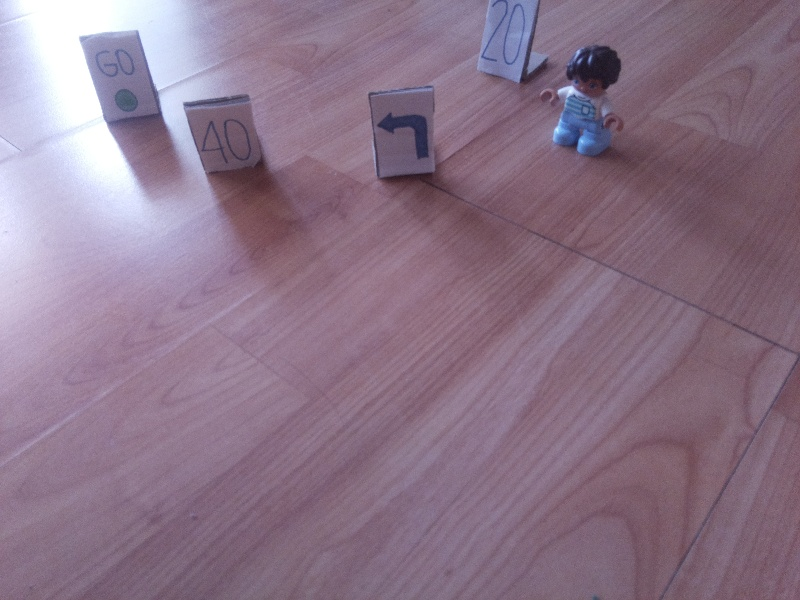20: (480, 2, 528, 72)
40: (201, 114, 256, 166)
go: (93, 45, 149, 114)
person: (545, 41, 628, 164)
turn left: (378, 108, 434, 164)
